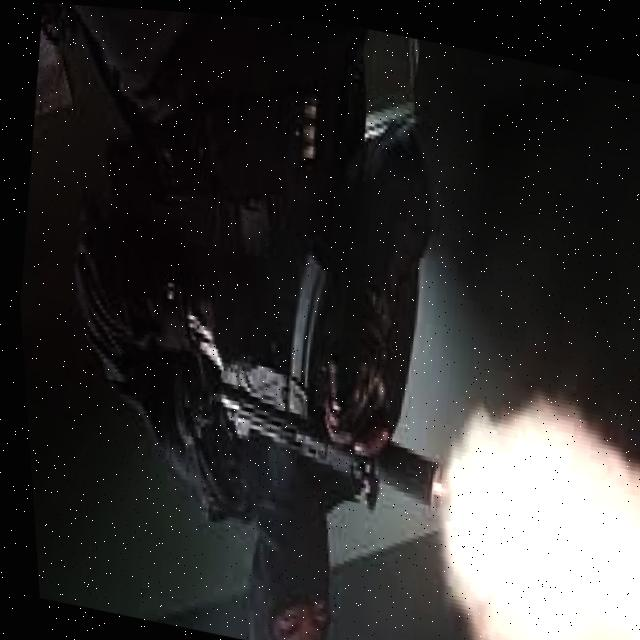firearm: (189, 214, 471, 526)
